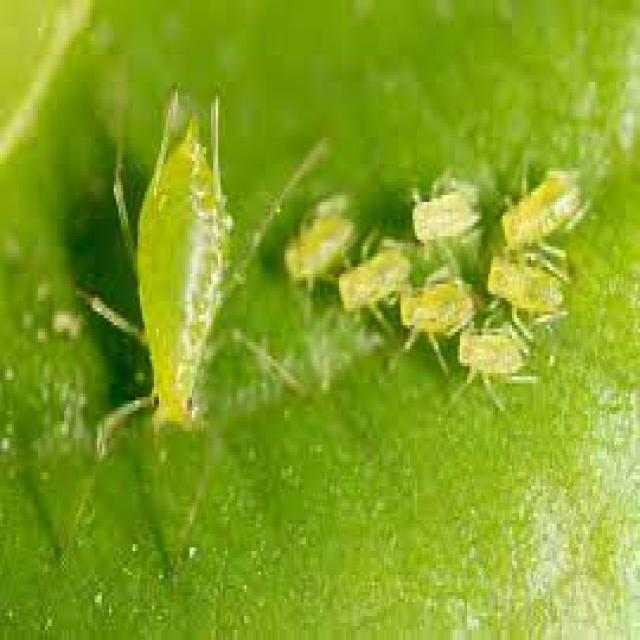Aphids: (74, 54, 274, 508), (492, 158, 592, 261), (326, 228, 414, 334), (396, 268, 484, 362), (486, 243, 582, 327)
